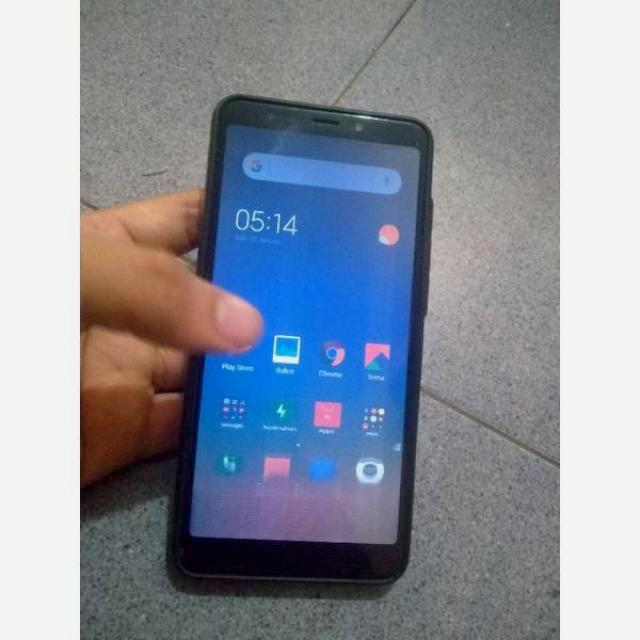phone: (202, 91, 416, 620)
